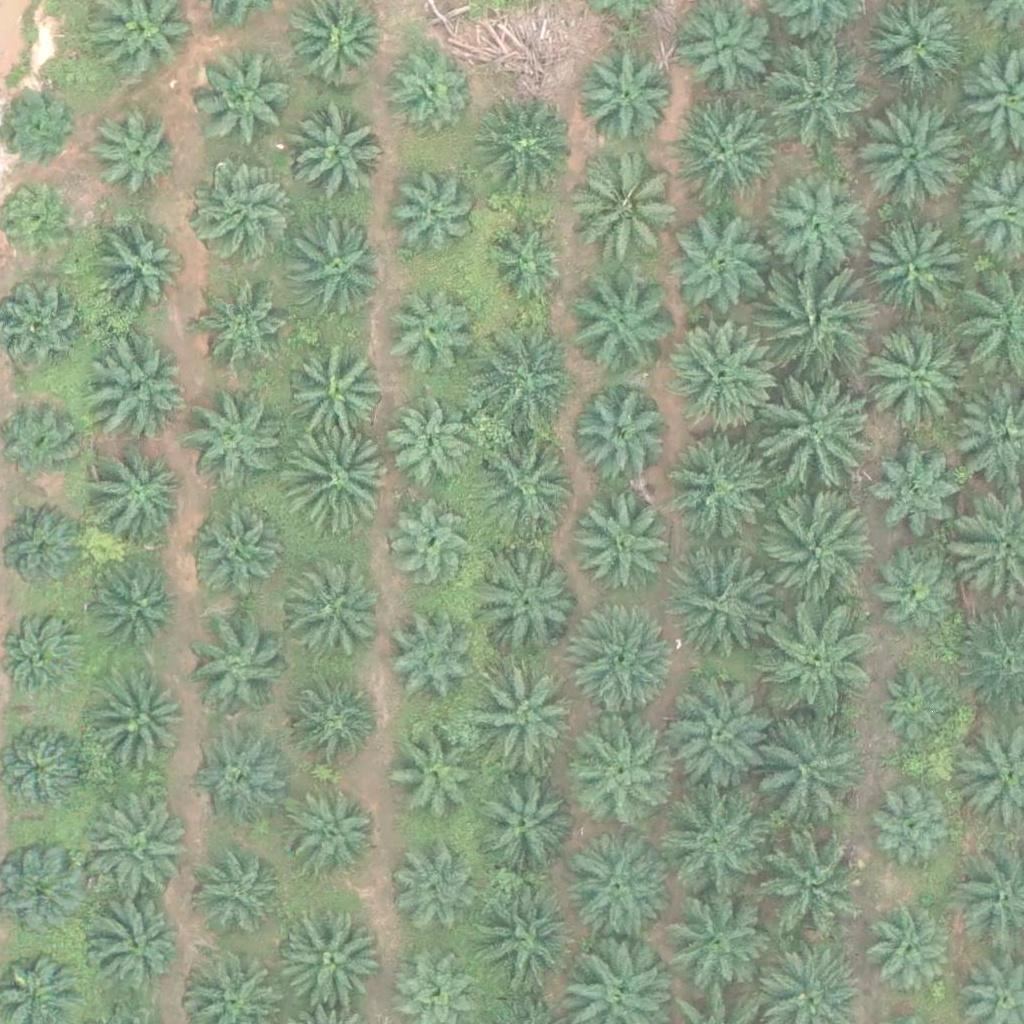Kelapa_Sawit: (666, 543, 779, 657), (756, 269, 869, 382), (765, 498, 878, 611), (659, 679, 772, 792), (666, 433, 779, 546), (563, 270, 676, 383), (565, 605, 678, 718), (471, 667, 584, 780), (469, 425, 582, 538), (470, 325, 583, 438), (664, 91, 777, 204), (760, 603, 872, 717), (469, 881, 581, 995), (280, 424, 392, 538), (84, 790, 196, 904), (861, 321, 973, 434), (762, 381, 874, 494), (751, 713, 863, 826), (756, 823, 868, 936), (658, 878, 770, 991), (657, 787, 769, 900), (665, 317, 777, 430), (564, 834, 676, 947), (273, 903, 385, 1016), (859, 96, 971, 209), (763, 41, 875, 154), (573, 154, 685, 267), (868, 443, 968, 544), (568, 388, 668, 489), (576, 492, 676, 593), (572, 729, 672, 830), (468, 773, 568, 874), (479, 556, 579, 657), (278, 781, 378, 882), (291, 348, 391, 449), (183, 396, 283, 497), (185, 506, 285, 607), (190, 850, 290, 951), (90, 442, 190, 543), (858, 222, 958, 323), (767, 177, 867, 278), (667, 212, 767, 313), (579, 46, 679, 147), (191, 162, 291, 263), (83, 103, 183, 204), (279, 559, 379, 659), (188, 616, 288, 716), (188, 740, 288, 840), (89, 223, 189, 323), (92, 339, 192, 439), (93, 676, 193, 776), (86, 897, 186, 997), (473, 100, 573, 200), (287, 102, 387, 202), (286, 217, 386, 317), (195, 47, 295, 147), (382, 292, 470, 380), (386, 404, 474, 492), (391, 730, 479, 818), (396, 850, 484, 938), (284, 675, 372, 763), (205, 293, 293, 381), (92, 559, 180, 647), (482, 213, 570, 301), (869, 904, 956, 992), (869, 780, 956, 868), (880, 547, 967, 635), (388, 501, 475, 589), (389, 620, 476, 708), (389, 167, 476, 255), (386, 44, 473, 132), (878, 670, 953, 746)
